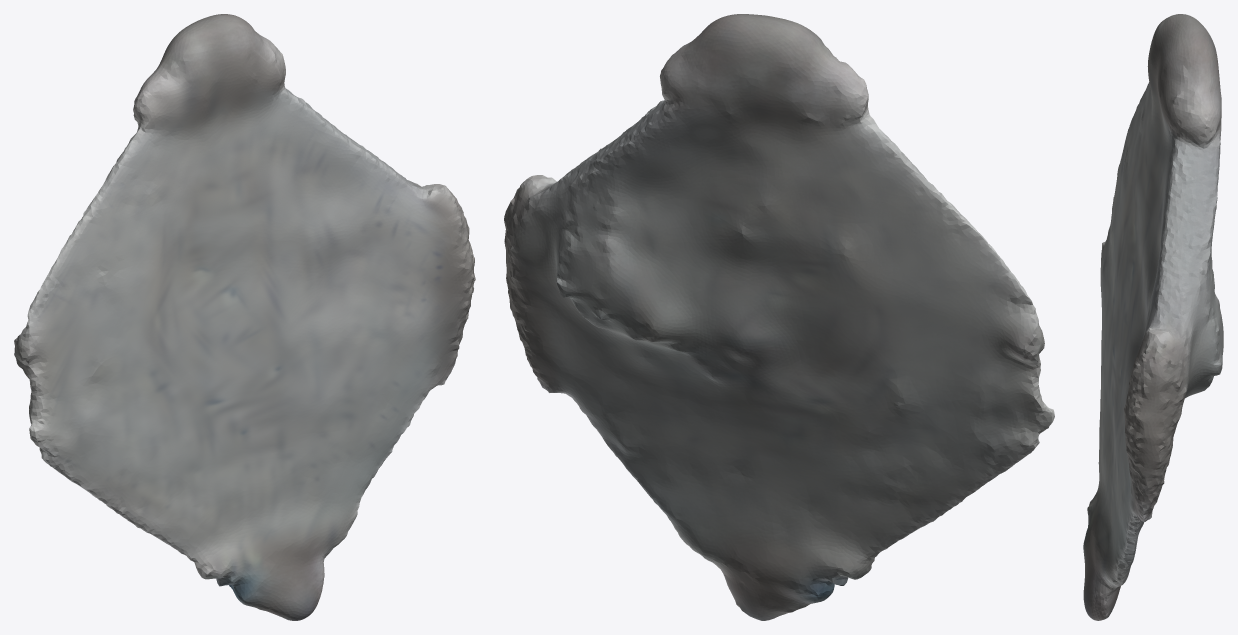
File: IMG_SEG_09.glb
3 renders of one model, left to right at view 1: azimuth 30°, elevation 25°; view 2: azimuth 150°, elevation 25°; view 3: azimuth 270°, elevation 25°, orthographic. The views are drawn at different scales.
Size of the model in its own units: 1.39 by 1.65 by 0.3647.
Materials: 1 (1 with a texture image).
